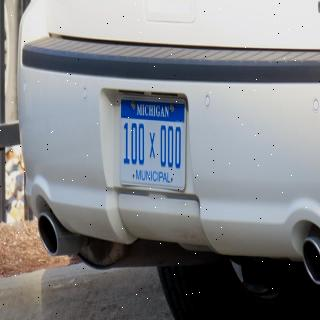license: (121, 97, 187, 192)
